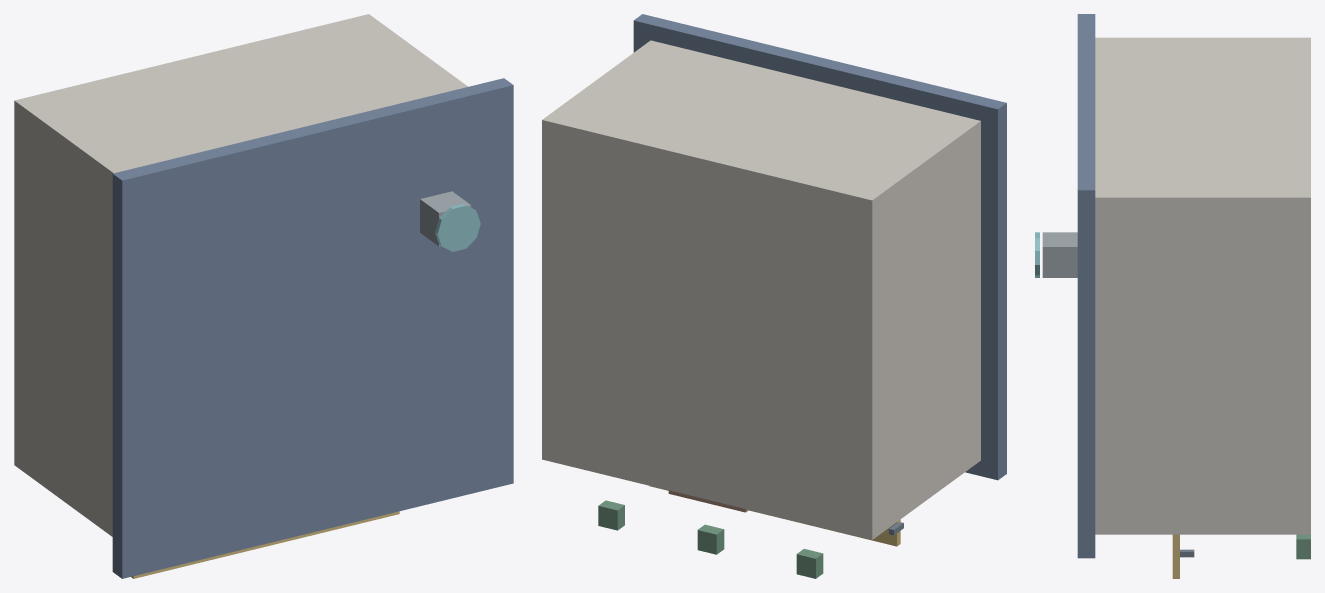
File: clinic.glb
The picture shows the model from 3 angles, left to right: view 1: azimuth 30°, elevation 25°; view 2: azimuth 150°, elevation 25°; view 3: azimuth 270°, elevation 25°; orthographic projection. The views are drawn at different scales.
Visible parts, largest first — view 1: roof2, wall, glass, metal2, sun; view 2: wall, roof2, green; view 3: wall, roof2, metal2, green.
Part boxes in pixels (bbox=[...]): roof2: bbox=[112, 78, 513, 578]; wall: bbox=[14, 14, 467, 536]; glass: bbox=[435, 204, 480, 251]; metal2: bbox=[420, 191, 471, 246]; sun: bbox=[131, 511, 399, 578]; wall: bbox=[542, 40, 980, 539]; roof2: bbox=[633, 14, 1006, 480]; green: bbox=[598, 500, 823, 578]; wall: bbox=[1095, 37, 1310, 534]; roof2: bbox=[1077, 14, 1095, 558]; metal2: bbox=[1042, 232, 1077, 277]; green: bbox=[1296, 534, 1310, 559].
Bounding box in the file's own units: 8.52 × 9.38 × 5.63.
